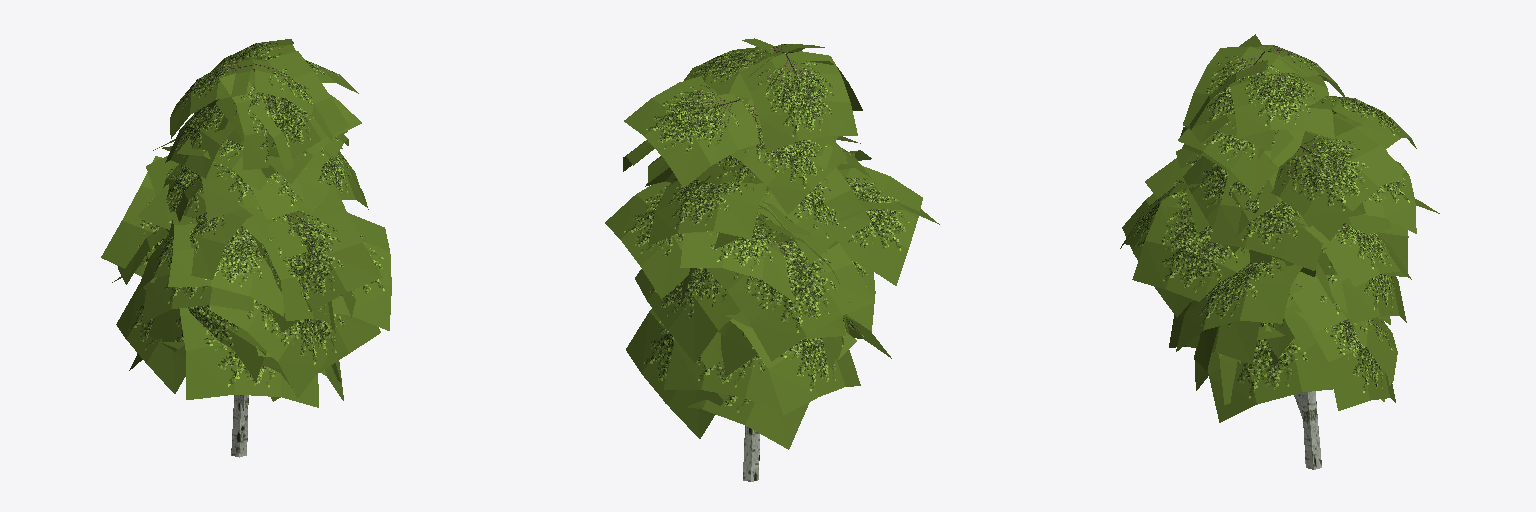
3 views of the same model, side by side, from view 1: azimuth 30°, elevation 25°; view 2: azimuth 150°, elevation 25°; view 3: azimuth 270°, elevation 25° (orthographic).
Parts seen in each view (by area): view 1: Default; view 2: Default; view 3: Default.
Part boxes in pixels (x1,y1,x2,y2): Default: (101,39,391,457); Default: (605,38,939,481); Default: (1120,34,1439,469).
Size of the model in its own units: 9.63 by 14.84 by 10.33.
2 materials, 2 textured.